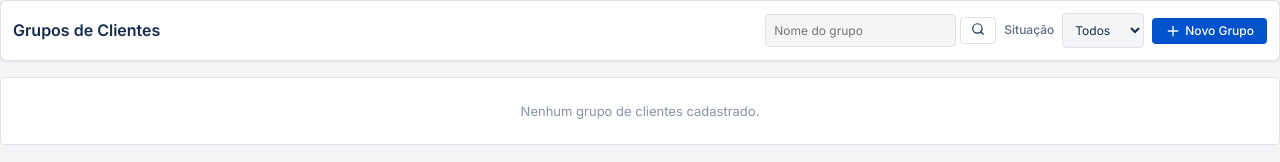
GruposClientes › mostra o vazio conforme o filtro
The image size is (1280, 162).
Check: the text "Nenhum grupo de clientes cadastrado." is shown, box [0, 77, 1279, 145]
Select "Inativos" in the dropdown labelled "Situação" at x=1103, y=30, box [1062, 13, 1144, 48]
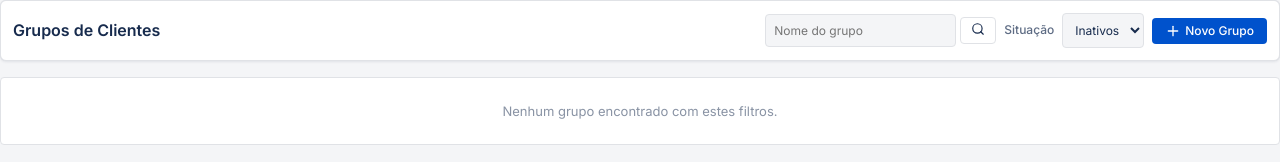
Check: the text "Nenhum grupo encontrado com estes filtros." is shown, box [0, 77, 1279, 145]
